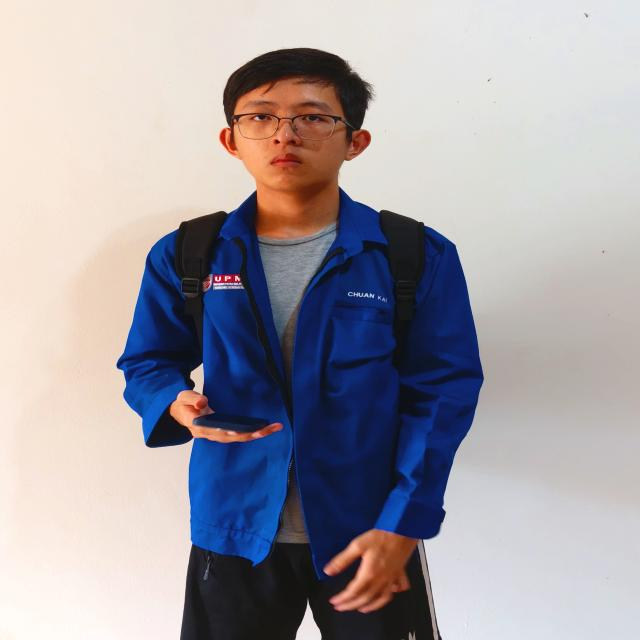person_with_labcoat: (117, 48, 482, 640)
